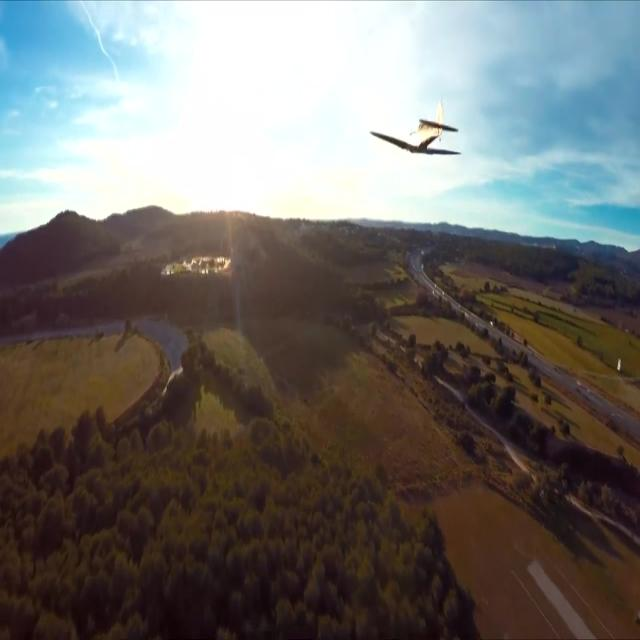iha: (401, 34, 431, 92)
